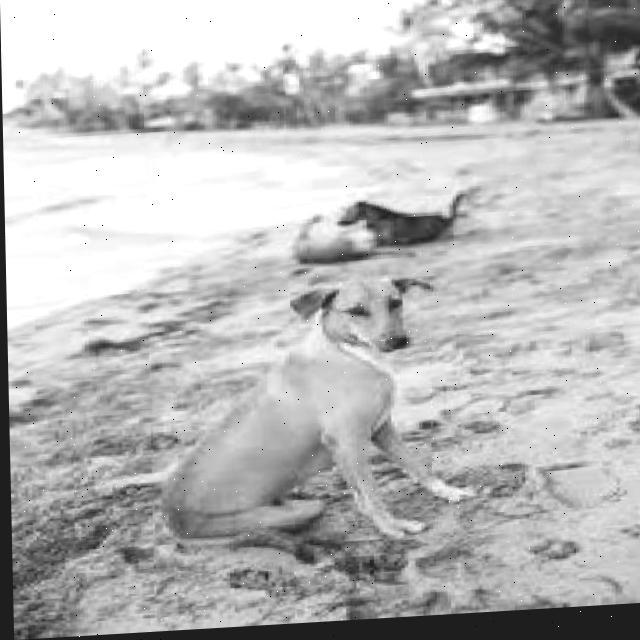Dog: (145, 262, 492, 550), (328, 178, 477, 249), (289, 224, 385, 268)
